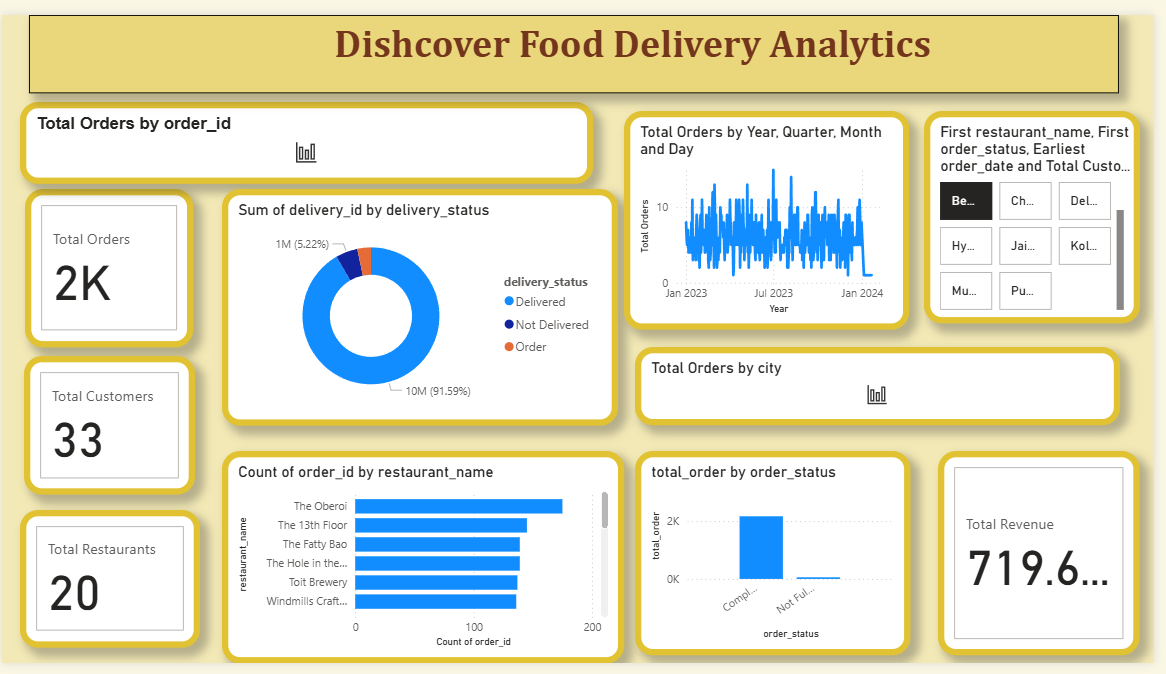

This screenshot's page, from the dashboard's own definition file:
{"tool":"powerbi","page":{"name":"Page 1","canvas":[1280,720],"ordinal":0},"visuals":[{"type":"cardVisual","fields":{"Data":["public orders.Total Orders"]},"box":[25.7,192.9,187.1,175.7],"z":0},{"type":"cardVisual","fields":{"Data":["public customers.Total Customers"]},"box":[24.3,378.6,190,154.3],"z":1000},{"type":"cardVisual","fields":{"Data":["public restaurants.Total Restaurants"]},"box":[20,550,200,152.9],"z":2000},{"type":"clusteredBarChart","fields":{"Y":["public orders.Total Orders"],"Category":["public orders.order_id"]},"box":[20,97.1,637.1,91.4],"z":3000},{"type":"donutChart","fields":{"Category":["public deliveries.delivery_status"],"Y":["Sum(public deliveries.delivery_id)"]},"box":[244.3,192.9,440,262.9],"z":4000},{"type":"barChart","fields":{"Category":["public restaurants.restaurant_name"],"Y":["CountNonNull(public orders.order_id)"]},"box":[244.3,484.3,447.1,235.7],"z":5000},{"type":"lineChart","fields":{"Category":["public orders.order_date.Variation.Date Hierarchy.Year","public orders.order_date.Variation.Date Hierarchy.Quarter","public orders.order_date.Variation.Date Hierarchy.Month","public orders.order_date.Variation.Date Hierarchy.Day"],"Y":["public orders.Total Orders"]},"box":[691.4,107.1,317.1,242.9],"z":6000},{"type":"barChart","fields":{"Category":["public restaurants.city"],"Y":["public orders.Total Orders"]},"box":[702.9,368.6,538.6,87.1],"z":7000},{"type":"columnChart","fields":{"Category":["public orders.order_status"],"Y":["public orders.total_order"]},"box":[702.9,484.3,305.7,227.1],"z":8000},{"type":"advancedSlicerVisual","fields":{"Values":["public restaurants.city"]},"box":[1024.3,107.1,240,235.7],"z":9000},{"type":"textbox","box":[30,0,1211.4,87.1],"z":9001},{"type":"cardVisual","fields":{"Data":["public orders.Total Revenue"]},"box":[1040,484.3,224.3,227.1],"z":9002}]}

Visuals, with their boxes in screenshot pixels (x1, y1, x2, y2), scaled from the page's 1280x720 canvas onto the 1166x674 screenshot:
cardVisual - public orders.Total Orders: detection(23, 181, 194, 345)
cardVisual - public customers.Total Customers: detection(22, 354, 195, 499)
cardVisual - public restaurants.Total Restaurants: detection(18, 515, 200, 658)
clusteredBarChart - public orders.Total Orders x public orders.order_id: detection(18, 91, 599, 176)
donutChart - public deliveries.delivery_status x Sum(public deliveries.delivery_id): detection(223, 181, 623, 427)
barChart - public restaurants.restaurant_name x CountNonNull(public orders.order_id): detection(223, 453, 630, 673)
lineChart - public orders.order_date.Variation.Date Hierarchy.Year x public orders.order_date.Variation.Date Hierarchy.Quarter: detection(630, 100, 919, 328)
barChart - public restaurants.city x public orders.Total Orders: detection(640, 345, 1131, 427)
columnChart - public orders.order_status x public orders.total_order: detection(640, 453, 919, 666)
advancedSlicerVisual - public restaurants.city: detection(933, 100, 1152, 321)
textbox: detection(27, 0, 1131, 82)
cardVisual - public orders.Total Revenue: detection(947, 453, 1152, 666)
